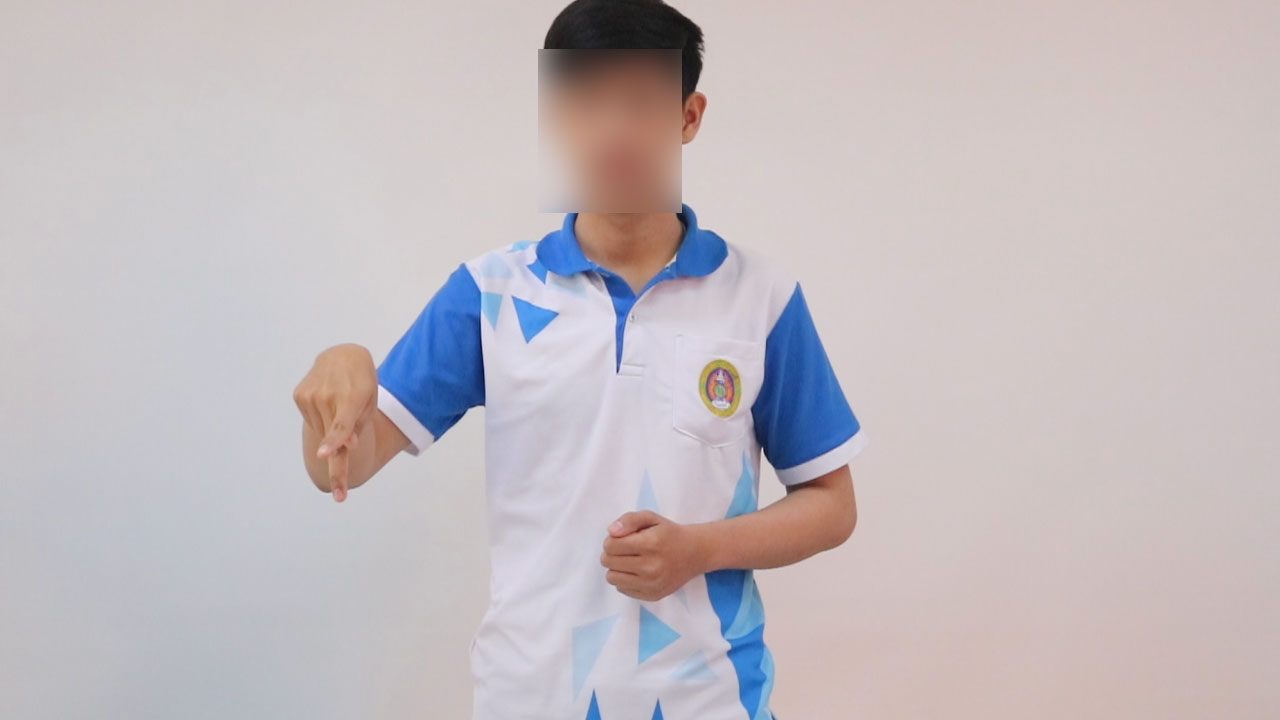por: (289, 334, 391, 515)
